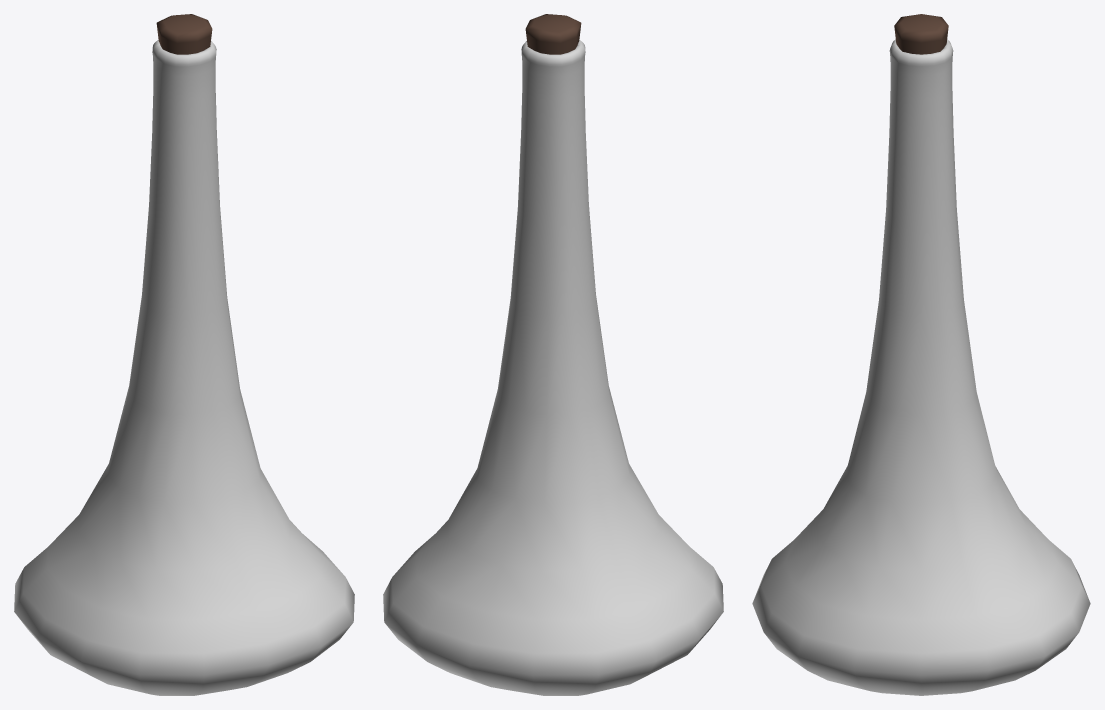
File: Potion7_Empty.glb
The picture shows the model from 3 angles, left to right: view 1: azimuth 30°, elevation 25°; view 2: azimuth 150°, elevation 25°; view 3: azimuth 270°, elevation 25°; orthographic projection.
Visible parts, largest first — view 1: Potion7_Empty_Cube.138; view 2: Potion7_Empty_Cube.138; view 3: Potion7_Empty_Cube.138.
Boxes of the visible parts, bbox=[...] form: Potion7_Empty_Cube.138: bbox=[14, 14, 354, 695]; Potion7_Empty_Cube.138: bbox=[383, 14, 723, 695]; Potion7_Empty_Cube.138: bbox=[752, 14, 1090, 695].
Size of the model in its own units: 0.7034 by 1.51 by 0.7034.
